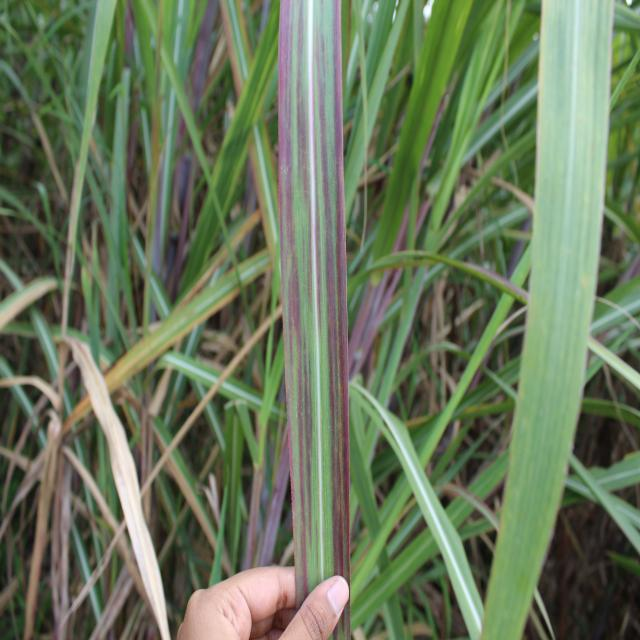Sugarcane: (479, 0, 613, 640), (276, 0, 351, 640)
